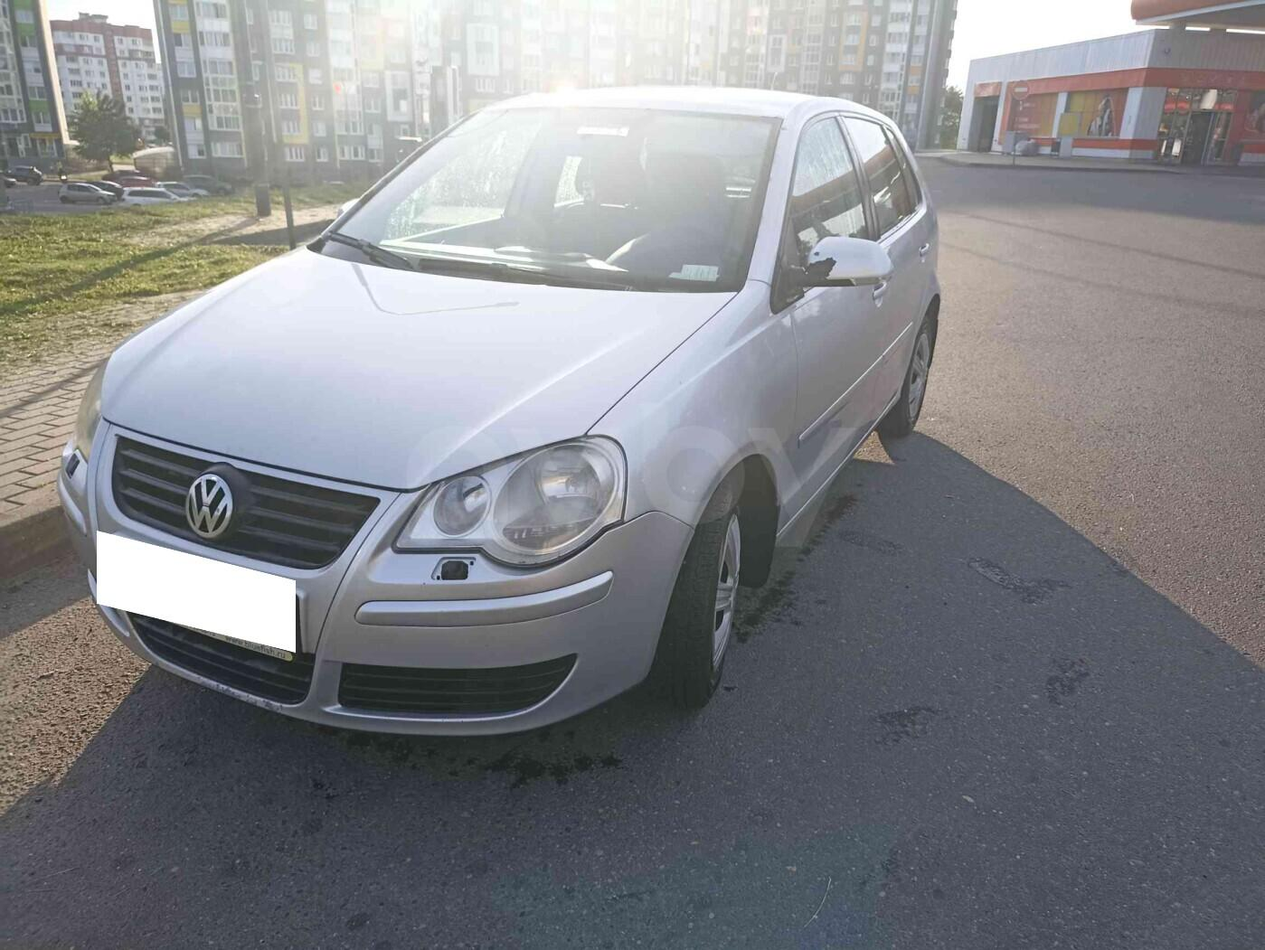Polo_2005-2009: (52, 82, 949, 776)
